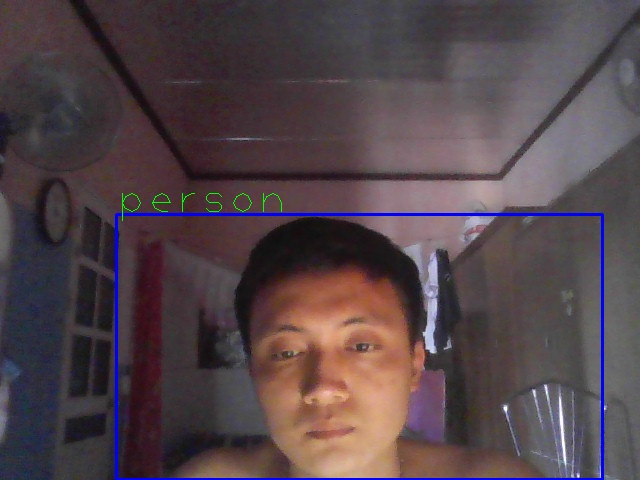person: (116, 214, 603, 480)
